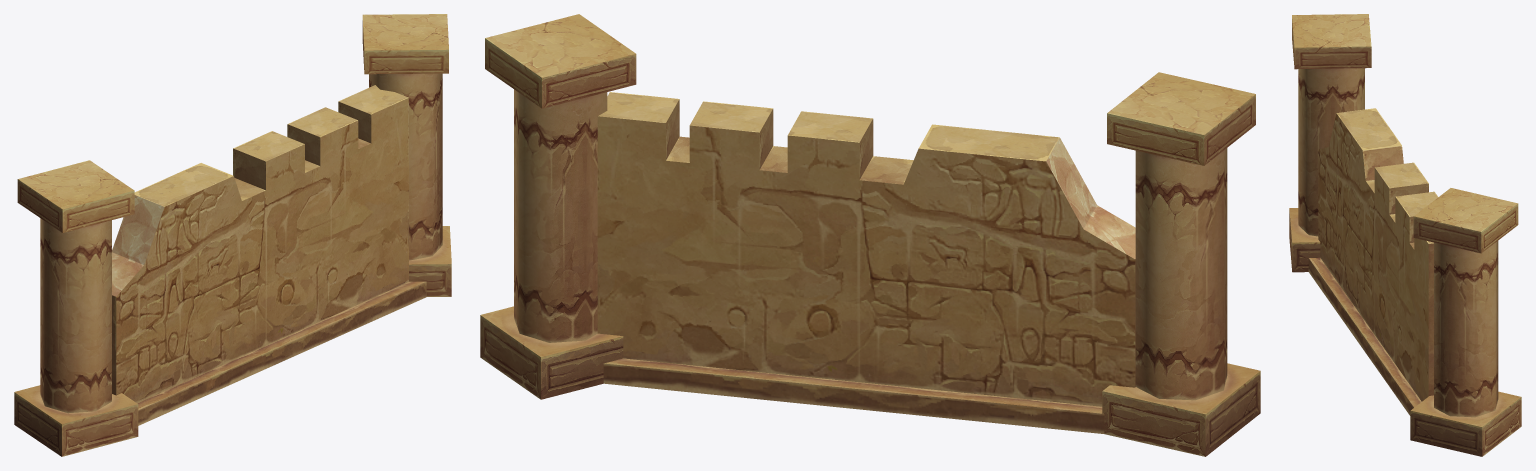
File: Area_09_54.fbx
The picture shows the model from 3 angles, left to right: view 1: azimuth 30°, elevation 25°; view 2: azimuth 150°, elevation 25°; view 3: azimuth 270°, elevation 25°; orthographic projection. The views are drawn at different scales.
Visible parts, largest first — view 1: Area_09_54; view 2: Area_09_54; view 3: Area_09_54.
Boxes of the visible parts, box(x1,y1,x2,y2) form: Area_09_54: box(14, 14, 451, 456); Area_09_54: box(480, 14, 1260, 456); Area_09_54: box(1289, 14, 1521, 456).
Bounding box in the file's own units: 865 × 409 × 385.
